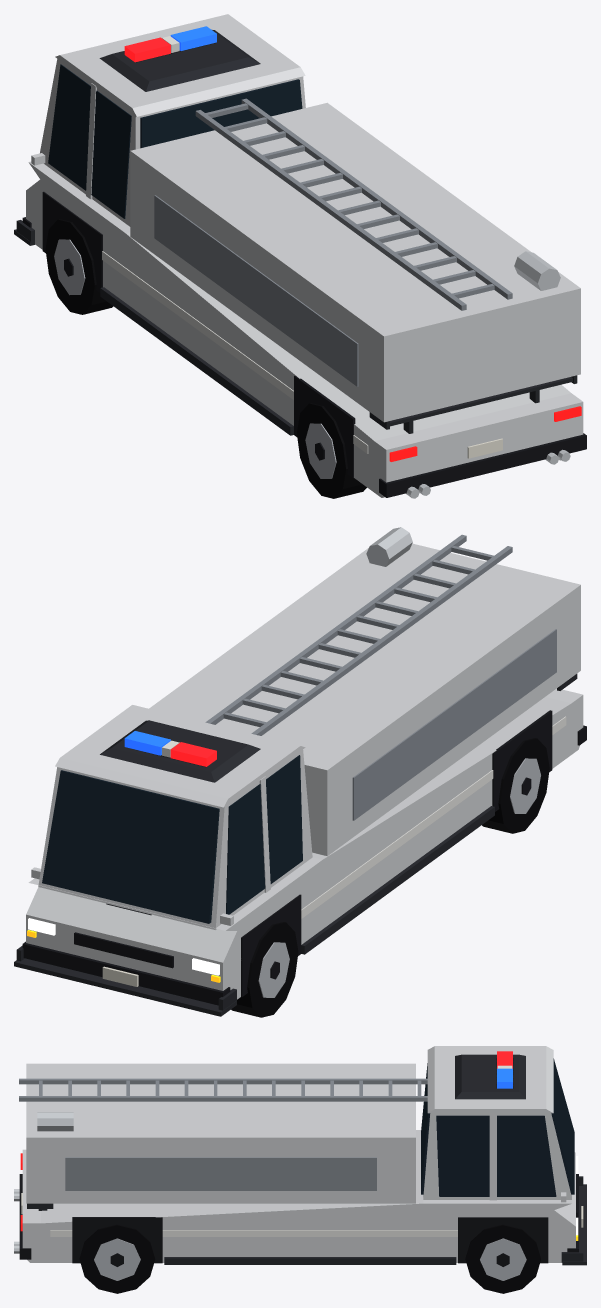
File: car_firetruck.glb
3 views of the same model, one above another, from view 1: azimuth 30°, elevation 25°; view 2: azimuth 150°, elevation 25°; view 3: azimuth 270°, elevation 25° (orthographic). The views are drawn at different scales.
Parts seen in each view (by area): view 1: car_firetruck__body, car_firetruck__mod_roof, car_firetruck__wheel_rl, car_firetruck__wheel_fl, car_firetruck__mod_skirts, car_firetruck__mod_spoiler; view 2: car_firetruck__body, car_firetruck__mod_roof, car_firetruck__wheel_fl, car_firetruck__wheel_rl, car_firetruck__mod_bumper, car_firetruck__mod_skirts; view 3: car_firetruck__body, car_firetruck__wheel_rr, car_firetruck__wheel_fr, car_firetruck__mod_roof, car_firetruck__mod_skirts, car_firetruck__mod_bumper.
Part boxes in pixels (bbox=[...]): car_firetruck__body: bbox=[22, 14, 586, 497]; car_firetruck__mod_roof: bbox=[99, 30, 260, 91]; car_firetruck__wheel_rl: bbox=[297, 403, 366, 498]; car_firetruck__wheel_fl: bbox=[45, 219, 113, 314]; car_firetruck__mod_skirts: bbox=[100, 287, 293, 435]; car_firetruck__mod_spoiler: bbox=[369, 375, 577, 433]; car_firetruck__body: bbox=[22, 527, 586, 1005]; car_firetruck__mod_roof: bbox=[100, 720, 260, 782]; car_firetruck__wheel_fl: bbox=[231, 922, 298, 1017]; car_firetruck__wheel_rl: bbox=[482, 738, 549, 833]; car_firetruck__mod_bumper: bbox=[14, 945, 236, 1016]; car_firetruck__mod_skirts: bbox=[301, 806, 494, 954]; car_firetruck__body: bbox=[19, 1046, 583, 1263]; car_firetruck__wheel_rr: bbox=[79, 1224, 155, 1293]; car_firetruck__wheel_fr: bbox=[465, 1224, 540, 1293]; car_firetruck__mod_roof: bbox=[455, 1054, 525, 1099]; car_firetruck__mod_skirts: bbox=[164, 1257, 456, 1264]; car_firetruck__mod_bumper: bbox=[561, 1176, 586, 1265].
Size of the model in its own units: 2.53 by 2.87 by 7.87.
